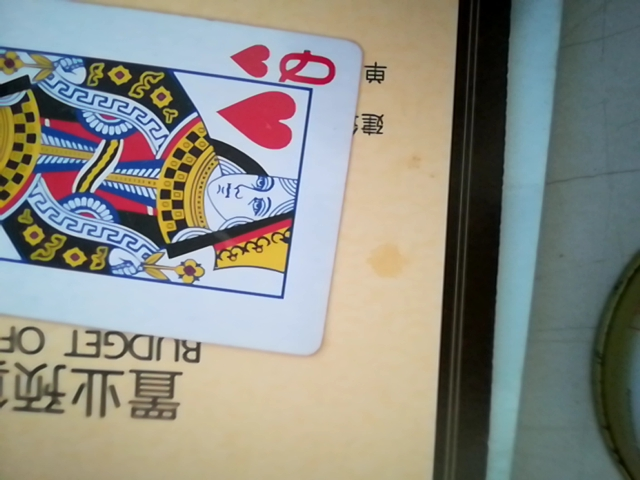hx q: (0, 0, 369, 352)
